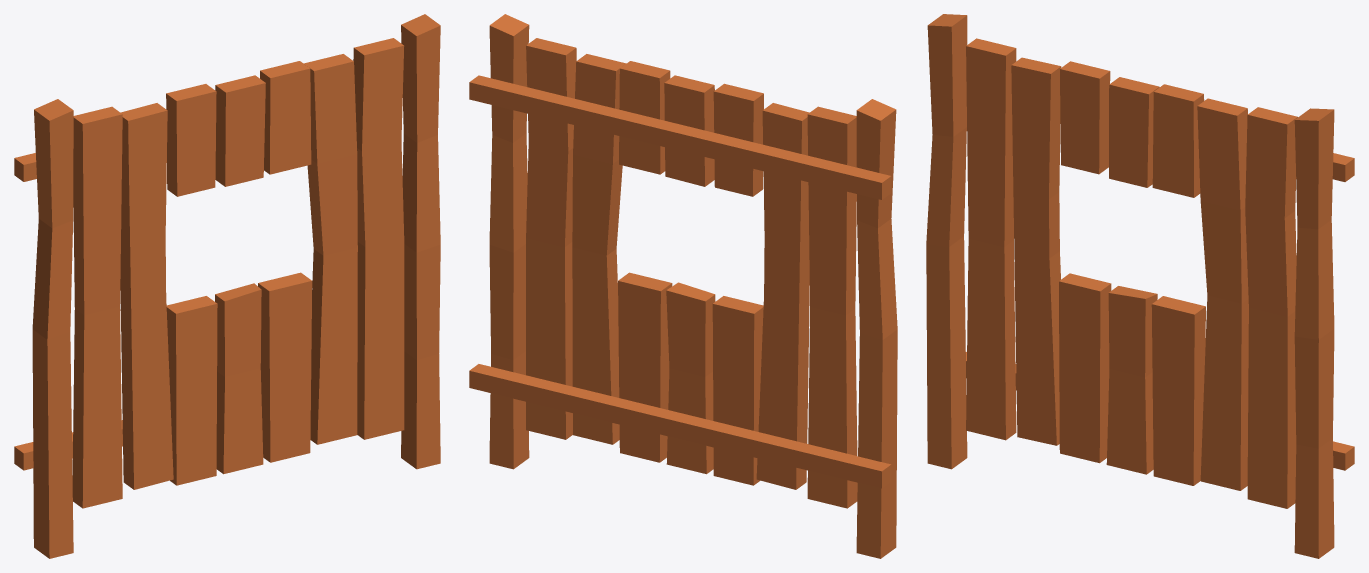
The model's file is Wood Window 1.glb.
The picture shows the model from 3 angles, left to right: view 1: azimuth 30°, elevation 25°; view 2: azimuth 150°, elevation 25°; view 3: azimuth 330°, elevation 25°; orthographic projection.
Visible parts, largest first — view 1: WoodFence_Window1; view 2: WoodFence_Window1; view 3: WoodFence_Window1.
Boxes of the visible parts, <box> form: WoodFence_Window1: <box>14,14,440,558</box>; WoodFence_Window1: <box>469,14,897,558</box>; WoodFence_Window1: <box>926,14,1354,558</box>.
Bounding box in the file's own units: 2 × 2.05 × 0.2086.
